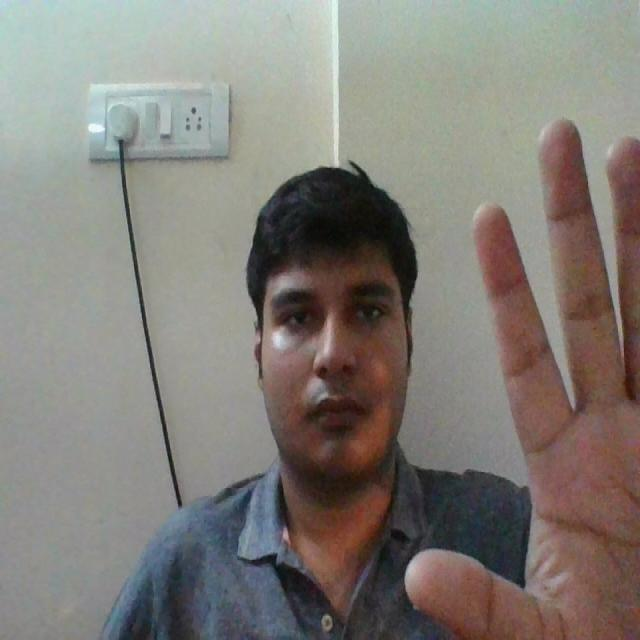Hello: (410, 93, 640, 640)
